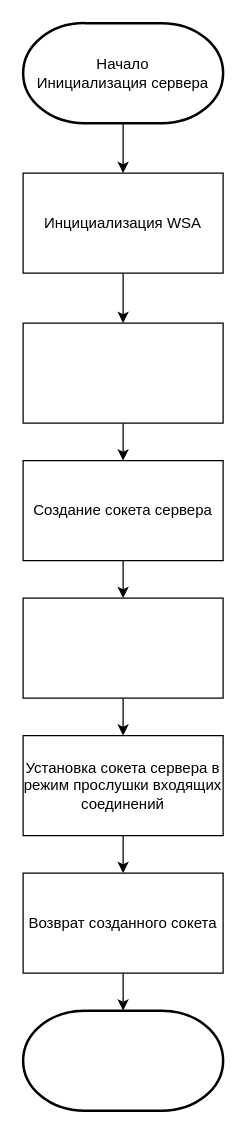
Image size: 245x1133. Some labels were removed from this diagram. Each missing label, with the centre of its shape:
"Конец Инициализация сервера" belongs at [122,1060].
"Получение структуры, содержащей IP-адрес сервера" belongs at [122,372].
"Привязка сокета сервера" belongs at [122,647].
